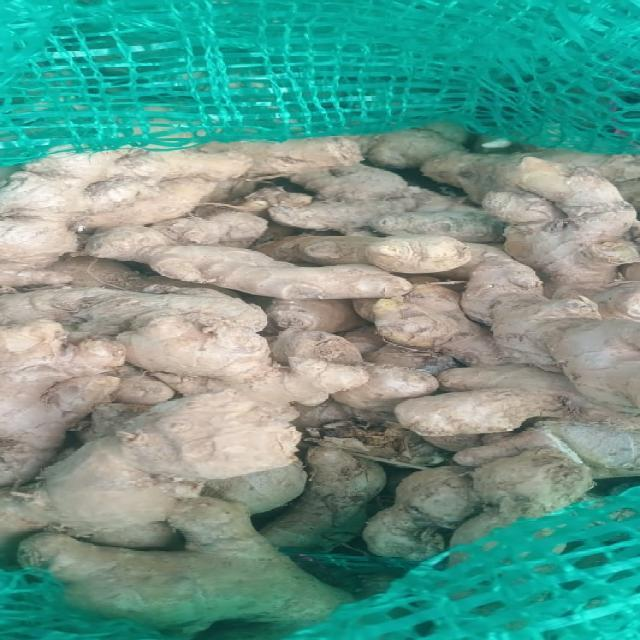ginger: (48, 170, 594, 480)
